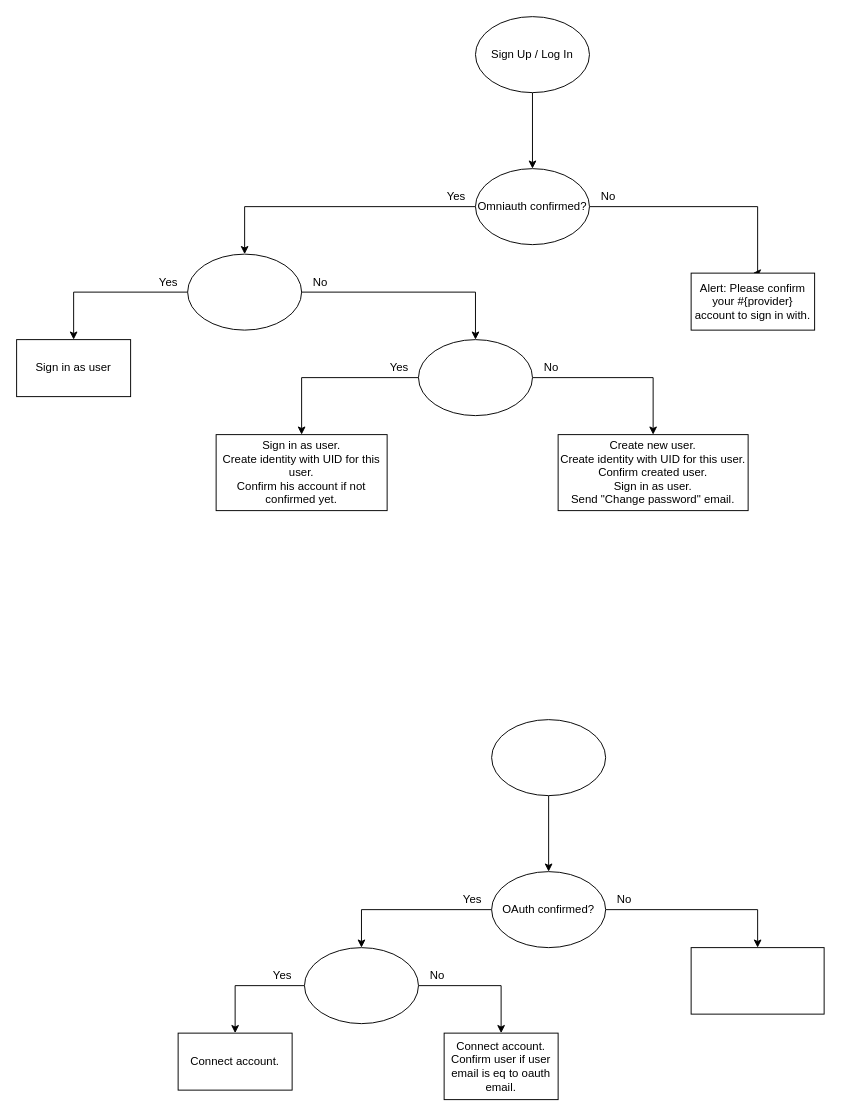
The diagram is 841 pixels wide and 1116 high, and some of its shapes have lost their labels. The shapes that lost their labels are listed below. From the top down, each one's centre as x and y in pixels, then its label:
(x=244, y=291): User found by UID?
(x=475, y=377): User found by email ?
(x=548, y=757): Connect account from Profile page.
(x=361, y=985): User confirmed?
(x=757, y=980): Alert: Please confirm your # {provider} account before connecting.
